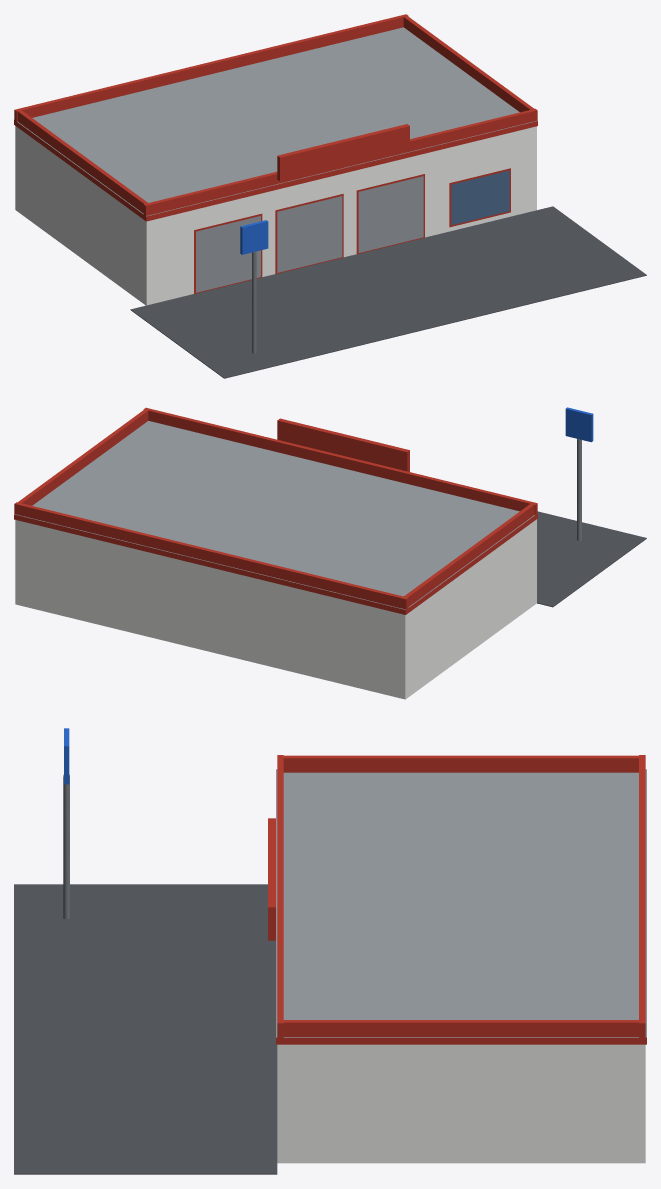
The model's file is garage_auto.glb.
3 views of the same model, one above another, from view 1: azimuth 30°, elevation 25°; view 2: azimuth 150°, elevation 25°; view 3: azimuth 270°, elevation 25° (orthographic). The views are drawn at different scales.
Visible parts, largest first — view 1: garage_auto; view 2: garage_auto; view 3: garage_auto.
Part boxes in pixels (<box>): garage_auto: <box>14,14,646,378</box>; garage_auto: <box>14,407,646,699</box>; garage_auto: <box>14,728,646,1174</box>.
Bounding box in the file's own units: 26 × 7.6 × 24.05.
Materials: 1 (1 with a texture image).
